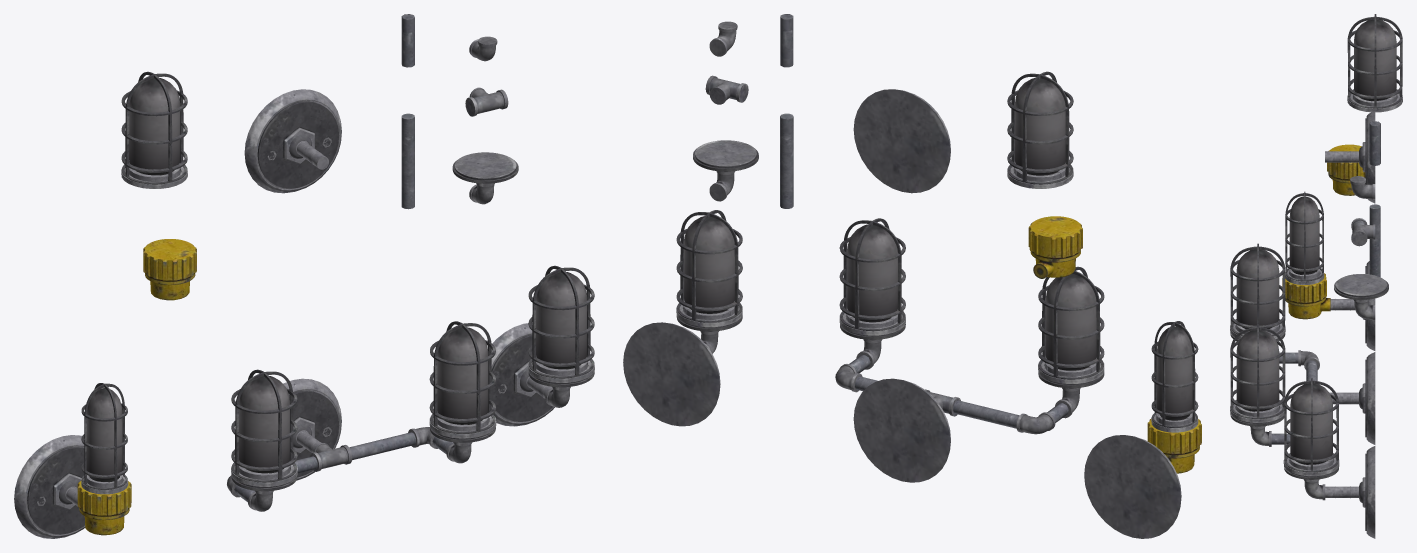
File: industrial_caged_sconce.glb
3 renders of one model, left to right at view 1: azimuth 30°, elevation 25°; view 2: azimuth 150°, elevation 25°; view 3: azimuth 270°, elevation 25°, orthographic. The views are drawn at different scales.
Visible parts, largest first — view 1: industrial_caged_sconce_c, industrial_caged_sconce_b, industrial_caged_sconce_a, industrial_caged_sconce_mount, industrial_caged_sconce_light, industrial_caged_sconce_base_a, industrial_caged_sconce_base_b, industrial_caged_sconce_pipe_long, industrial_caged_sconce_pipe_t, industrial_caged_sconce_pipe_short; view 2: industrial_caged_sconce_c, industrial_caged_sconce_a, industrial_caged_sconce_b, industrial_caged_sconce_mount, industrial_caged_sconce_light, industrial_caged_sconce_base_a, industrial_caged_sconce_base_b, industrial_caged_sconce_pipe_long, industrial_caged_sconce_pipe_t, industrial_caged_sconce_pipe_short; view 3: industrial_caged_sconce_c, industrial_caged_sconce_a, industrial_caged_sconce_b, industrial_caged_sconce_light, industrial_caged_sconce_base_b, industrial_caged_sconce_mount, industrial_caged_sconce_base_a, industrial_caged_sconce_pipe_long, industrial_caged_sconce_pipe_t, industrial_caged_sconce_pipe_short, industrial_caged_sconce_elbow.
Boxes of the visible parts, x1,y1,x2,y2 form: industrial_caged_sconce_c: (227,321,496,511); industrial_caged_sconce_b: (14,383,131,538); industrial_caged_sconce_a: (491,265,594,426); industrial_caged_sconce_mount: (244,89,341,193); industrial_caged_sconce_light: (121,71,187,188); industrial_caged_sconce_base_a: (143,239,196,300); industrial_caged_sconce_base_b: (452,152,518,204); industrial_caged_sconce_pipe_long: (401,113,414,209); industrial_caged_sconce_pipe_t: (465,87,508,116); industrial_caged_sconce_pipe_short: (401,14,414,67); industrial_caged_sconce_c: (835,218,1104,482); industrial_caged_sconce_a: (623,210,742,426); industrial_caged_sconce_b: (1084,321,1201,538); industrial_caged_sconce_mount: (853,89,950,193); industrial_caged_sconce_light: (1007,71,1073,188); industrial_caged_sconce_base_a: (1028,216,1082,278); industrial_caged_sconce_base_b: (693,140,758,201); industrial_caged_sconce_pipe_long: (780,113,793,208); industrial_caged_sconce_pipe_t: (705,75,748,104); industrial_caged_sconce_pipe_short: (780,14,793,67); industrial_caged_sconce_c: (1230,243,1375,446); industrial_caged_sconce_a: (1283,378,1375,538); industrial_caged_sconce_b: (1282,191,1375,350); industrial_caged_sconce_light: (1347,14,1402,112); industrial_caged_sconce_base_b: (1334,274,1388,320); industrial_caged_sconce_mount: (1325,110,1375,203); industrial_caged_sconce_base_a: (1327,144,1365,195); industrial_caged_sconce_pipe_long: (1369,204,1380,277); industrial_caged_sconce_pipe_t: (1351,218,1375,246); industrial_caged_sconce_pipe_short: (1369,121,1380,165); industrial_caged_sconce_elbow: (1350,176,1375,199).
Bounding box in the file's own units: 1.21 × 0.9128 × 0.3894.
Materials: 1 (1 with a texture image).
